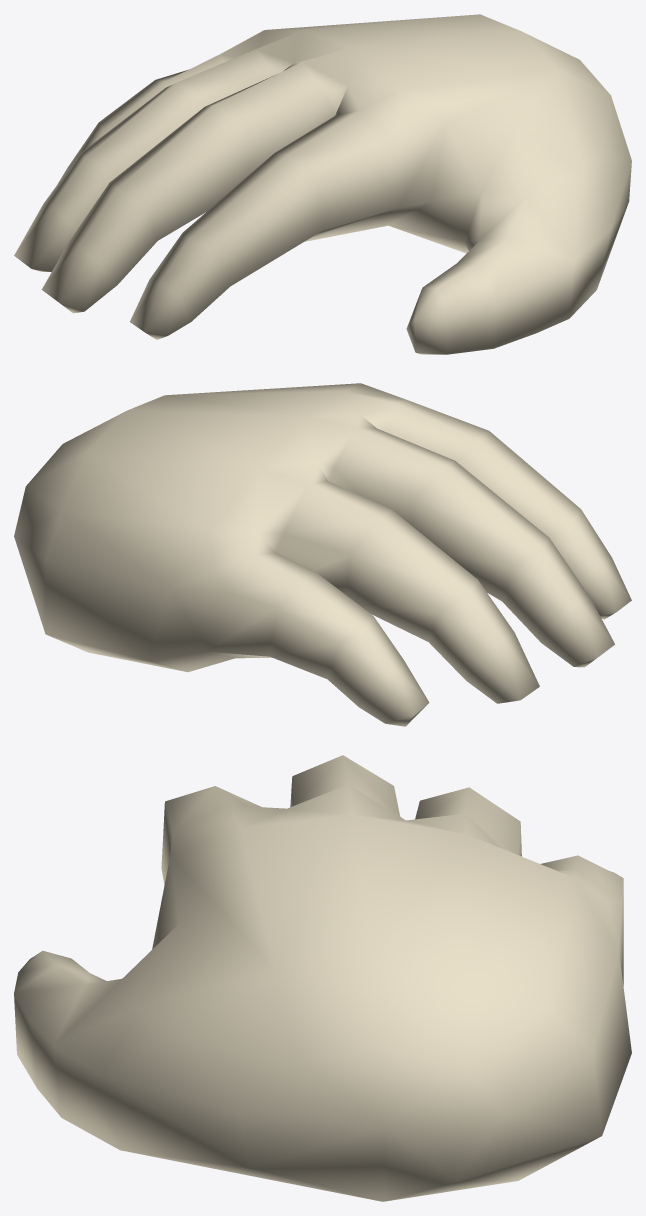
Rendered from F2_UI_3D_Hand.dae.
The picture shows the model from 3 angles, top to bottom: view 1: azimuth 30°, elevation 25°; view 2: azimuth 150°, elevation 25°; view 3: azimuth 270°, elevation 25°; orthographic projection. The views are drawn at different scales.
Parts seen in each view (by area): view 1: vsn_mesh_0_; view 2: vsn_mesh_0_; view 3: vsn_mesh_0_.
Part boxes in pixels (x1=…): vsn_mesh_0_: x1=14, y1=14, x2=631, y2=354; vsn_mesh_0_: x1=14, y1=383, x2=631, y2=726; vsn_mesh_0_: x1=14, y1=755, x2=631, y2=1201.
Bounding box in the file's own units: 1.59 × 0.6204 × 1.26.
Materials: 1 (1 with a texture image).
